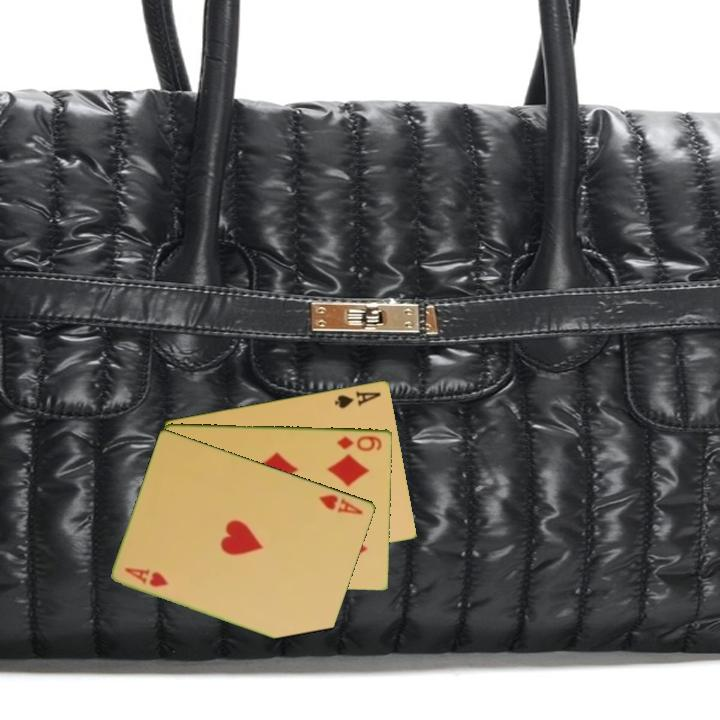6d: (334, 432, 385, 454)
Ah: (316, 491, 367, 517), (121, 564, 172, 590)
As: (331, 387, 384, 411)
